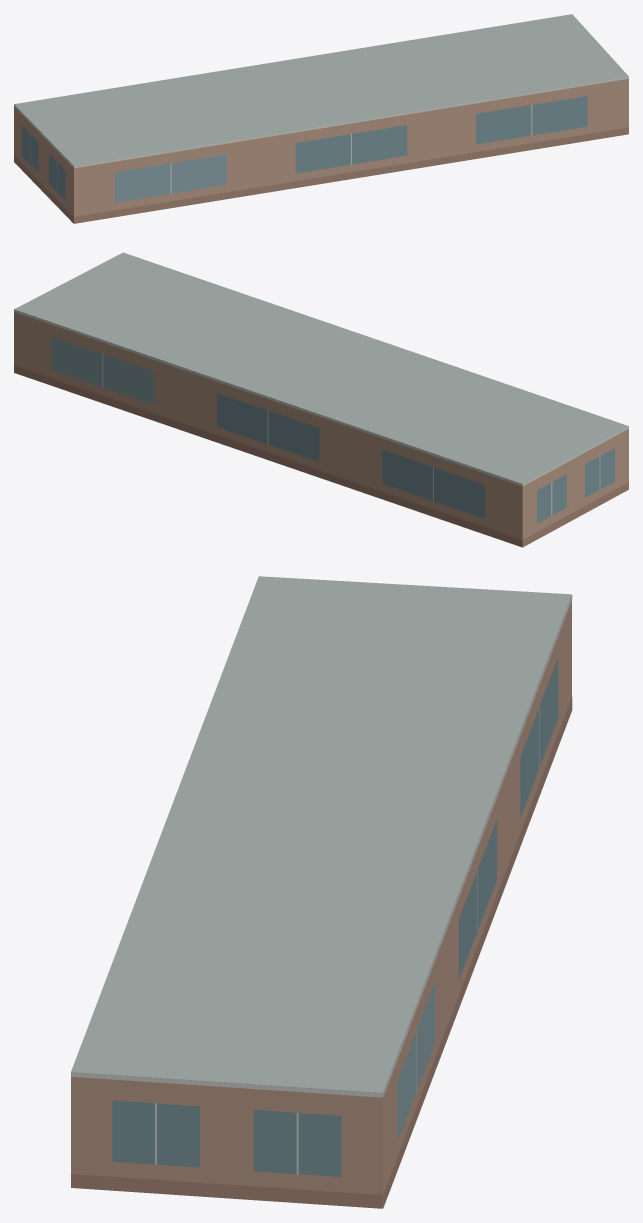
File: survey-upis-32995993.glb
3 renders of one model, top to bottom at view 1: azimuth 30°, elevation 25°; view 2: azimuth 150°, elevation 25°; view 3: azimuth 270°, elevation 25°, orthographic. The views are drawn at different scales.
Parts seen in each view (by area): view 1: survey-upis-32995993.tmp; view 2: survey-upis-32995993.tmp; view 3: survey-upis-32995993.tmp.
Boxes of the visible parts, x1,y1,x2,y2 form: survey-upis-32995993.tmp: (14,14,628,223); survey-upis-32995993.tmp: (14,252,628,547); survey-upis-32995993.tmp: (71,576,572,1208).
Size of the model in its own units: 29.21 by 3.05 by 11.98.
